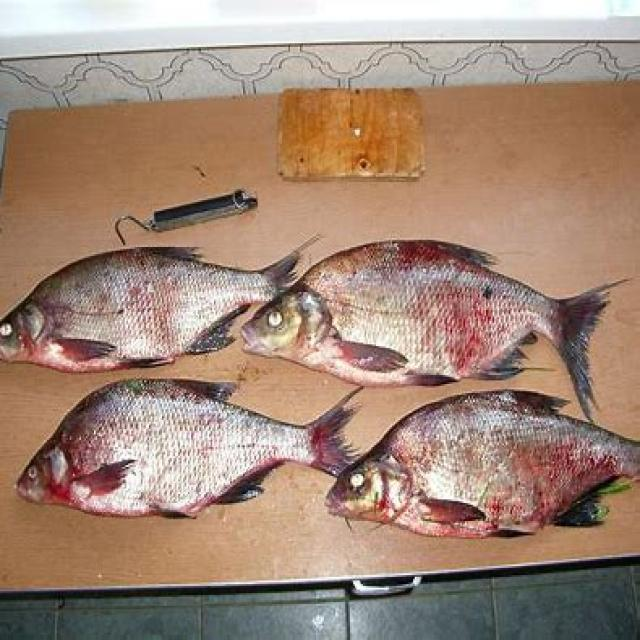EUS Disease: (4, 379, 640, 556), (2, 234, 628, 391), (342, 427, 502, 542), (408, 258, 536, 375), (487, 417, 618, 529), (104, 252, 212, 352)
